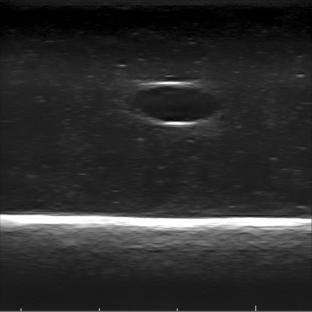vessel: (124, 81, 224, 128)
